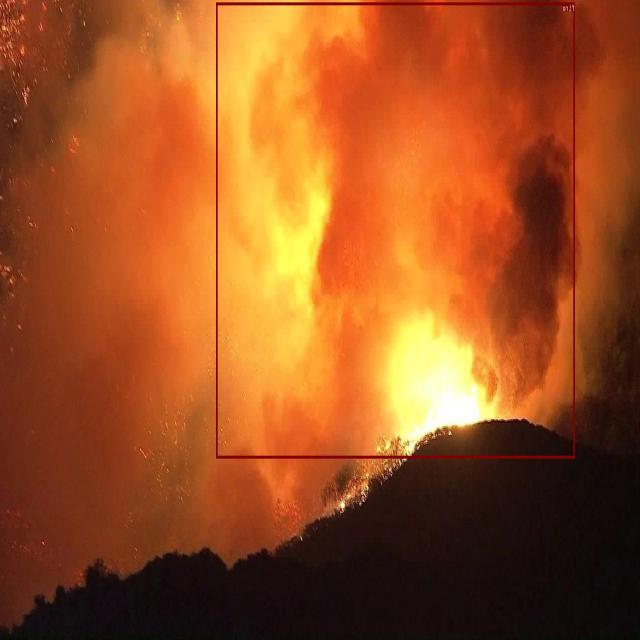fire: (217, 2, 575, 458)
